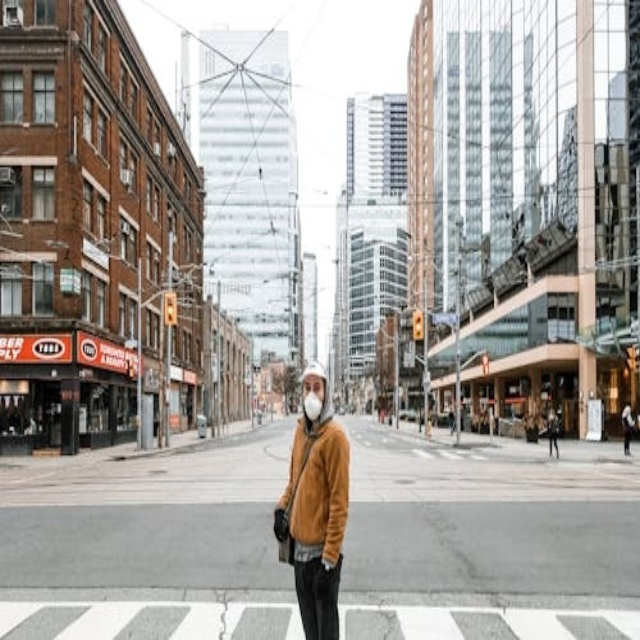Mascara: (303, 391, 323, 421)
Sin_gafas: (303, 381, 324, 393)
